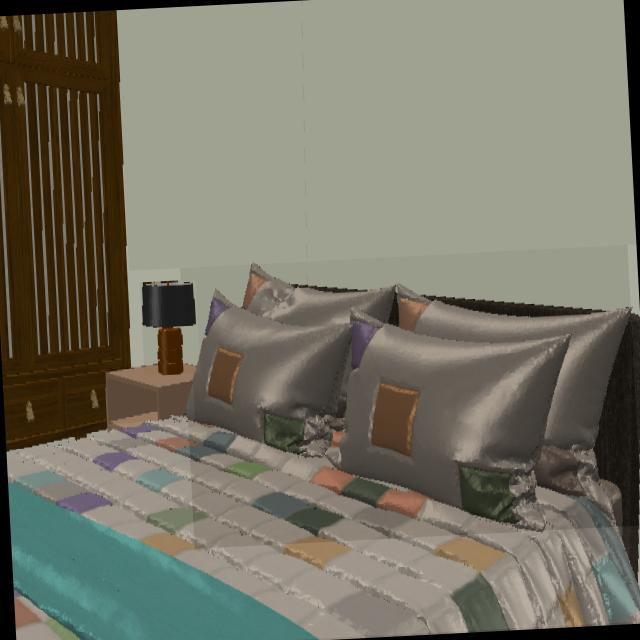bed: (8, 265, 640, 640)
lamp: (142, 284, 198, 374)
nighttable: (106, 367, 193, 423)
pillow: (188, 266, 632, 531)
wardrobe: (0, 11, 132, 450)
